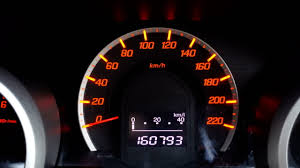Digital_Meter: (125, 129, 190, 148)
